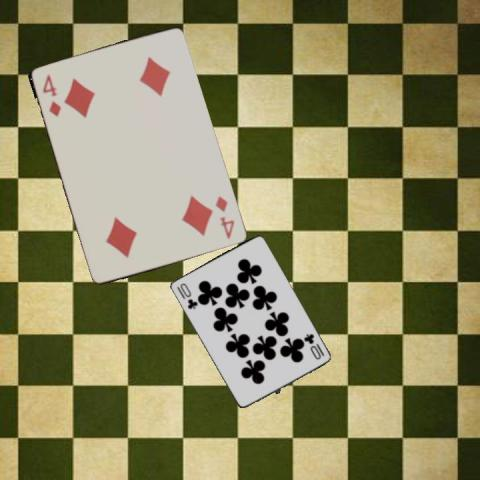10c: (173, 280, 199, 311), (301, 330, 325, 360)
4d: (213, 193, 236, 241), (40, 71, 63, 118)
